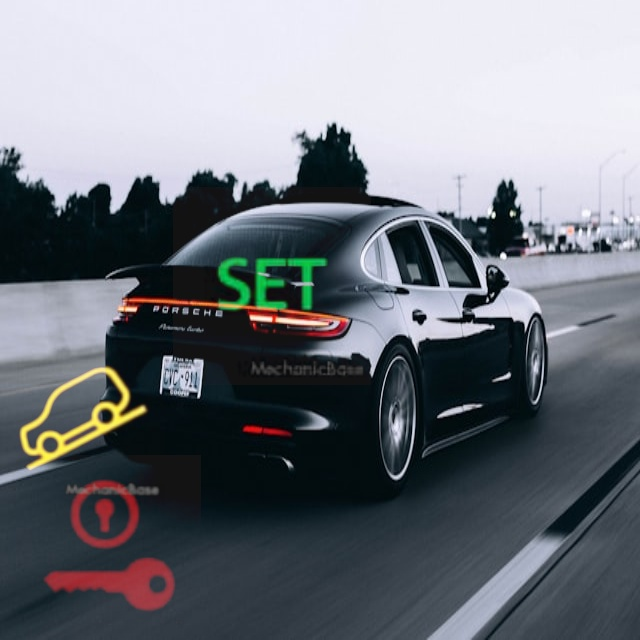symbol: (173, 187, 371, 385), (18, 455, 201, 638), (2, 340, 165, 503)
